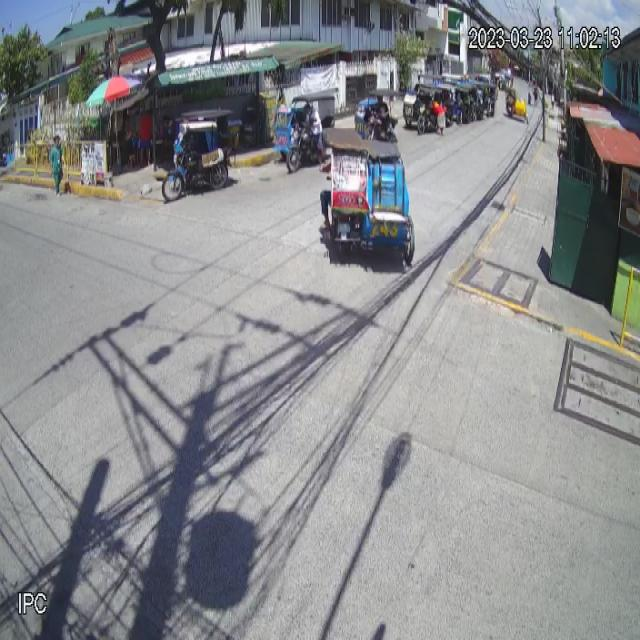Tricycle: (320, 128, 415, 266)
